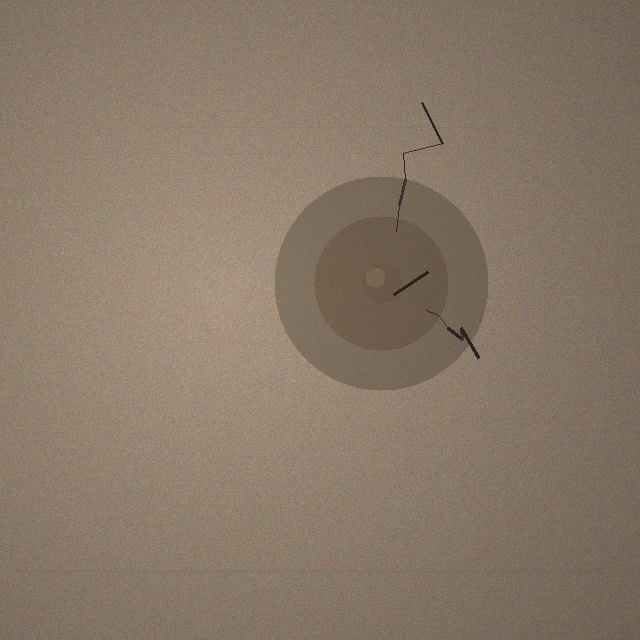crack: (274, 176, 488, 390)
